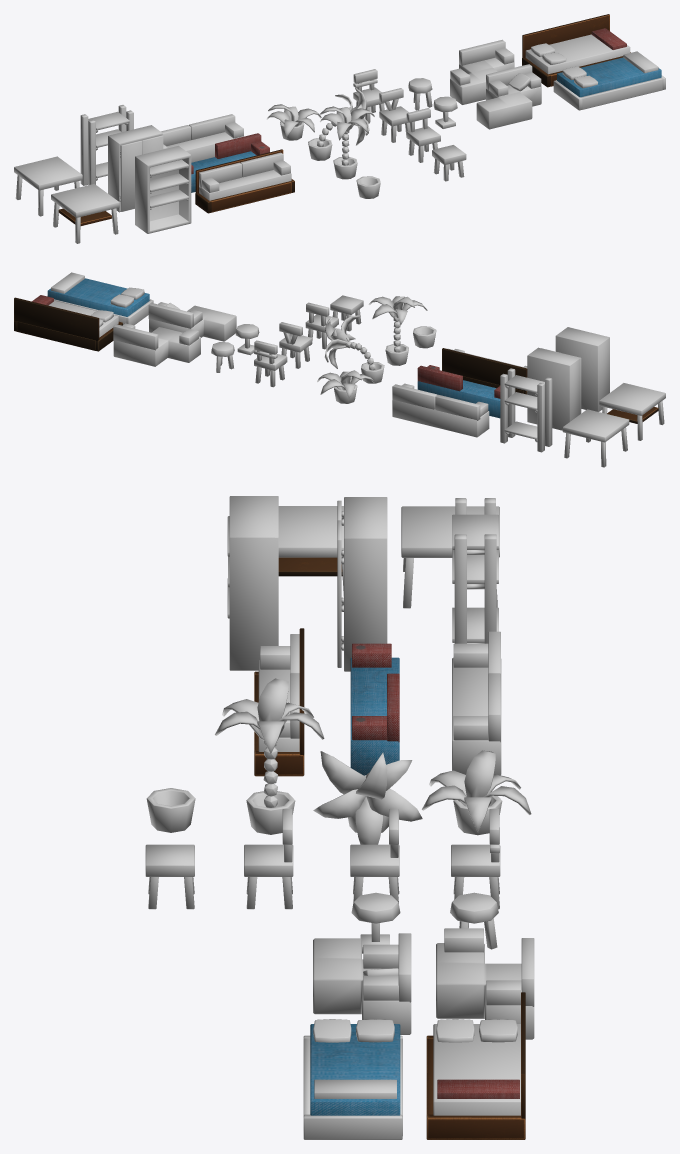
Rendered from enviropack_salon.fbx.
The picture shows the model from 3 angles, top to bottom: view 1: azimuth 30°, elevation 25°; view 2: azimuth 150°, elevation 25°; view 3: azimuth 270°, elevation 25°; orthographic projection. The views are drawn at different scales.
Parts seen in each view (by area): view 1: bed_1, wardrobe_3, sofa_3, bed_2, tetris_sofa_2, tetris_sofa_1, table_2, sofa_1, wardrobe_1, table_1, flowerpot_2, sofa_2 (+11 smaller); view 2: bed_1, sofa_1, wardrobe_1, bed_2, wardrobe_2, tetris_sofa_1, wardrobe_3, tetris_sofa_2, sofa_2, table_2, sofa_3, table_1 (+10 smaller); view 3: bed_1, bed_2, wardrobe_3, tetris_sofa_2, tetris_sofa_1, wardrobe_2, sofa_1, sofa_2, wardrobe_1, flowerpot_2, flowerpot_3, sofa_3 (+10 smaller).
Part boxes in pixels (x1=…): bed_1: x1=522, y1=14, x2=630, y2=87; wardrobe_3: x1=135, y1=145, x2=191, y2=233; sofa_3: x1=195, y1=149, x2=294, y2=213; bed_2: x1=553, y1=51, x2=665, y2=110; tetris_sofa_2: x1=476, y1=64, x2=541, y2=129; tetris_sofa_1: x1=450, y1=39, x2=514, y2=104; table_2: x1=51, y1=184, x2=119, y2=243; sofa_1: x1=161, y1=114, x2=243, y2=162; wardrobe_1: x1=80, y1=105, x2=133, y2=185; table_1: x1=14, y1=156, x2=82, y2=216; flowerpot_2: x1=320, y1=106, x2=374, y2=179; sofa_2: x1=191, y1=133, x2=269, y2=192; bed_1: x1=14, y1=295, x2=122, y2=351; sofa_1: x1=392, y1=383, x2=489, y2=437; wardrobe_1: x1=500, y1=368, x2=552, y2=452; bed_2: x1=47, y1=272, x2=153, y2=325; wardrobe_2: x1=527, y1=347, x2=580, y2=430; tetris_sofa_1: x1=113, y1=323, x2=200, y2=366; wardrobe_3: x1=555, y1=327, x2=609, y2=411; tetris_sofa_2: x1=148, y1=302, x2=236, y2=341; sofa_2: x1=417, y1=365, x2=500, y2=418; table_2: x1=599, y1=383, x2=665, y2=440; sofa_3: x1=442, y1=348, x2=527, y2=394; table_1: x1=562, y1=409, x2=629, y2=467; bed_1: x1=426, y1=992, x2=525, y2=1139; bed_2: x1=303, y1=1019, x2=402, y2=1139; wardrobe_3: x1=227, y1=496, x2=278, y2=670; tetris_sofa_2: x1=313, y1=933, x2=411, y2=1034; tetris_sofa_1: x1=436, y1=928, x2=534, y2=1039; wardrobe_2: x1=341, y1=497, x2=387, y2=671; sofa_1: x1=452, y1=631, x2=501, y2=775; sofa_2: x1=350, y1=643, x2=399, y2=775; wardrobe_1: x1=452, y1=498, x2=498, y2=643; flowerpot_2: x1=215, y1=678, x2=324, y2=834; flowerpot_3: x1=313, y1=751, x2=422, y2=844; sofa_3: x1=254, y1=628, x2=304, y2=776.
Size of the model in its own units: 2747 by 303 by 790.
